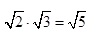sqrt: (67, 9, 88, 31), (5, 9, 27, 30), (33, 9, 52, 30)
